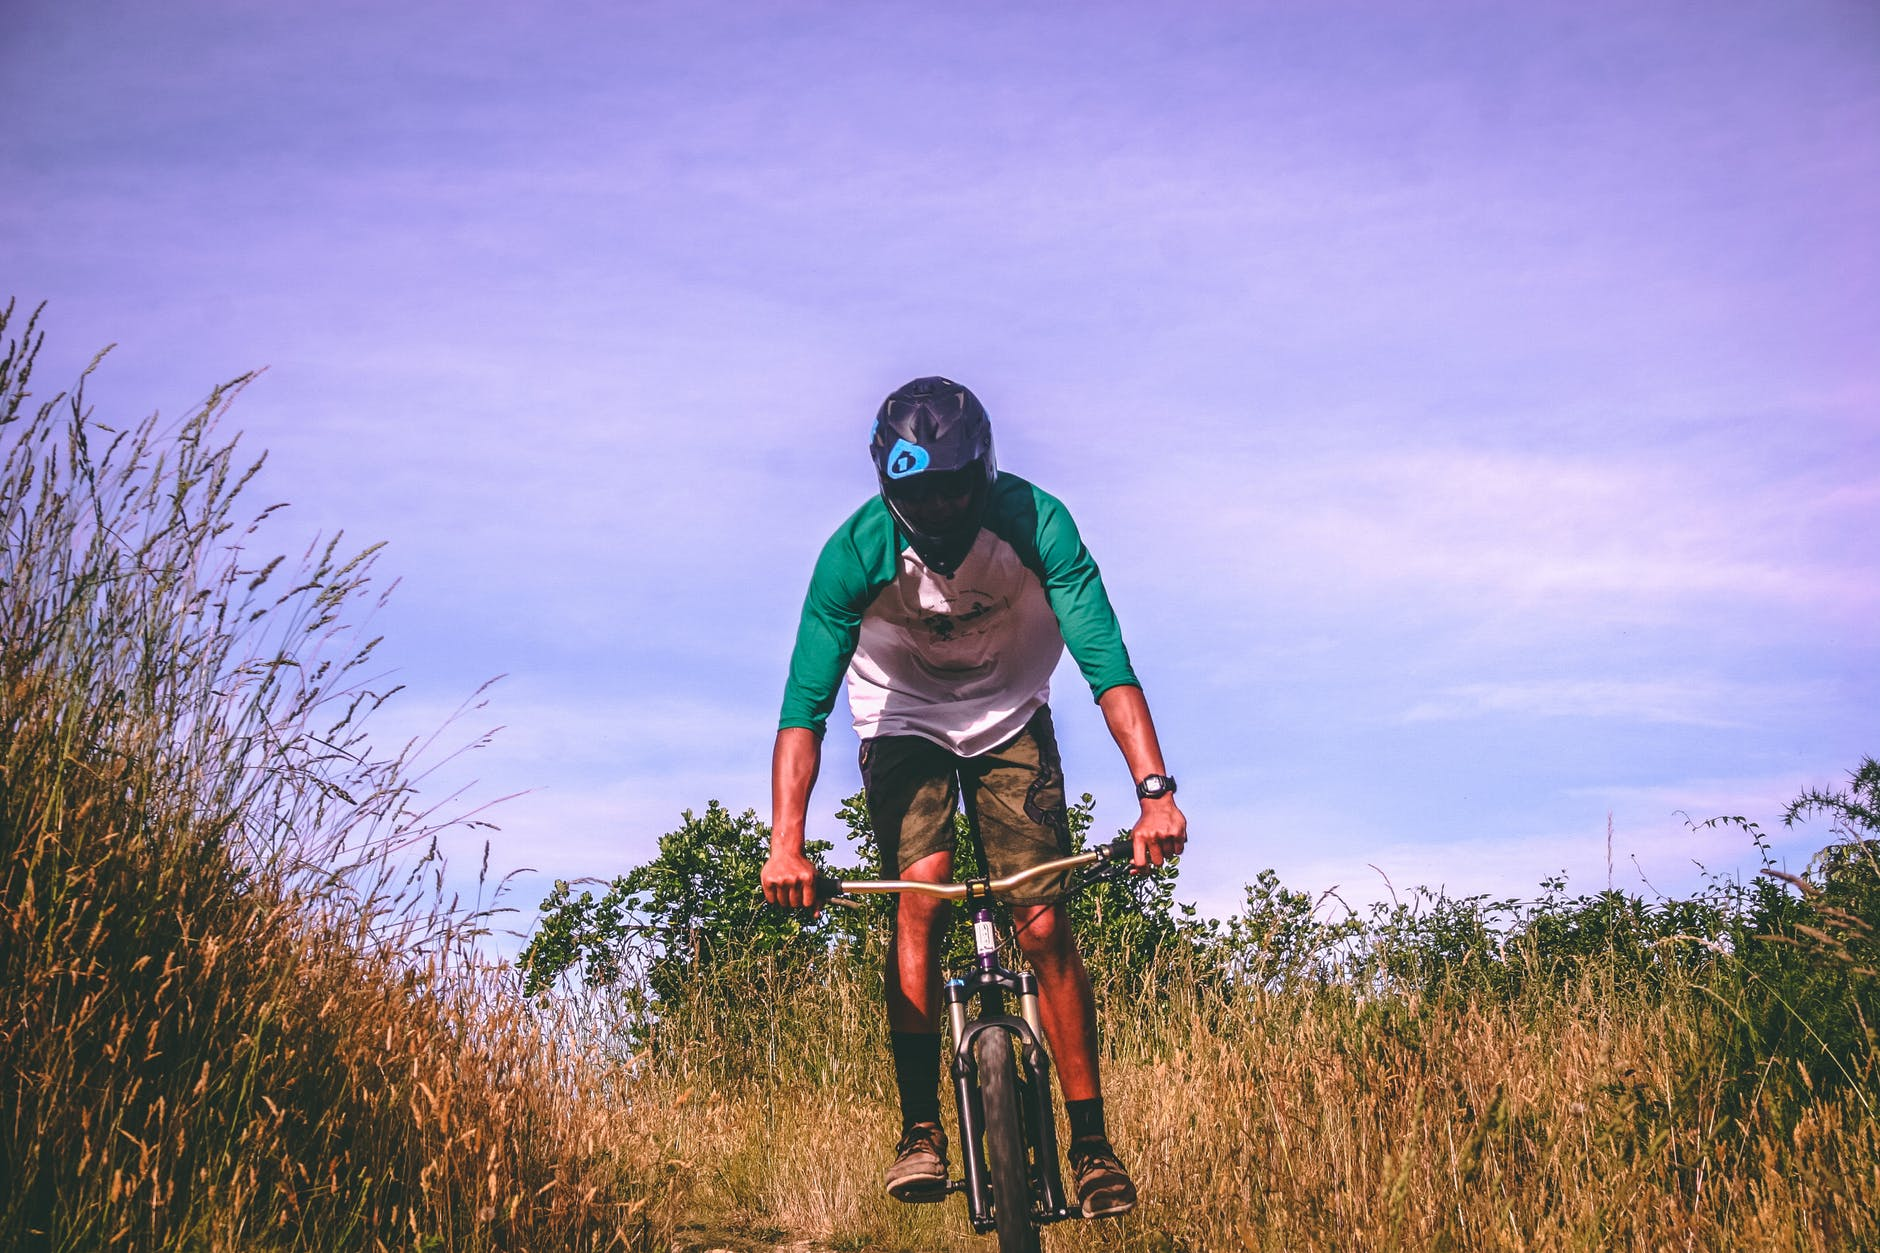helmet: (865, 378, 1012, 586)
